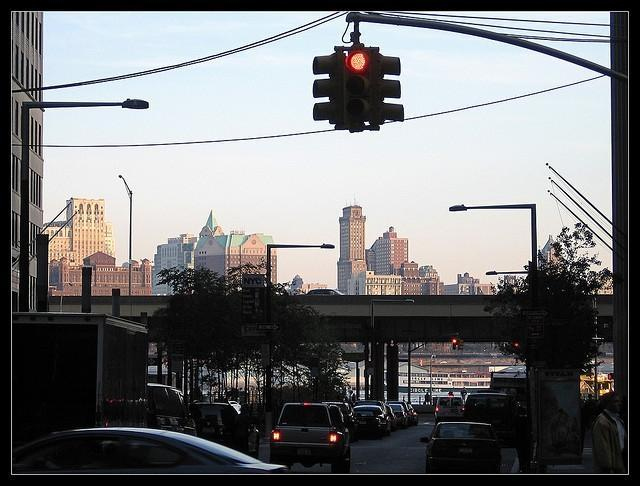car: (12, 426, 287, 475), (270, 401, 351, 474), (188, 398, 262, 460), (419, 422, 504, 474), (147, 382, 197, 430), (461, 392, 520, 429), (324, 401, 356, 434), (354, 400, 394, 424), (354, 408, 392, 432), (435, 394, 465, 422), (389, 404, 408, 426), (296, 288, 346, 296), (407, 404, 418, 424)
truck: (9, 310, 152, 450), (488, 365, 530, 402)
